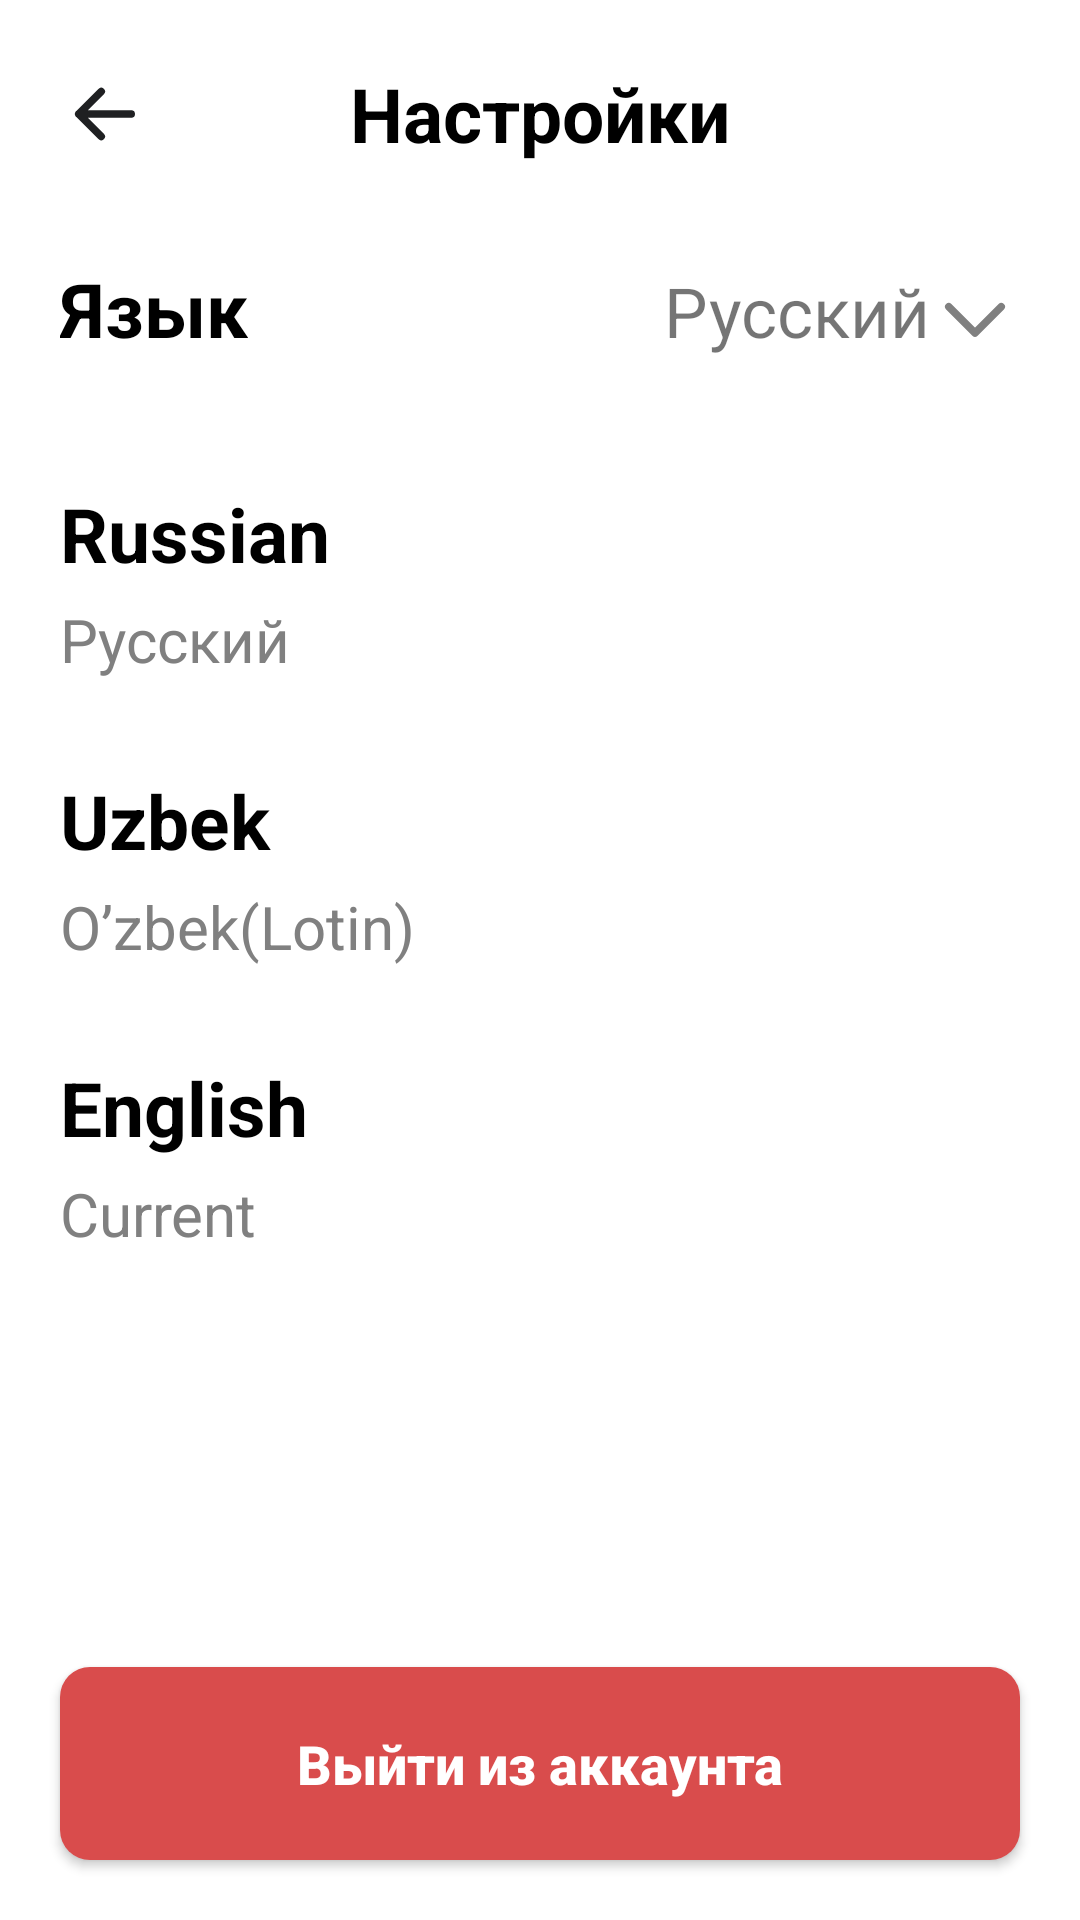

Screen size 1080px x 1920px. Icon name, then its box in pixels as detection(x1, y1, x2, y2):
arrow down: detection(945, 302, 1005, 337)
arrow left: detection(74, 87, 135, 141)
